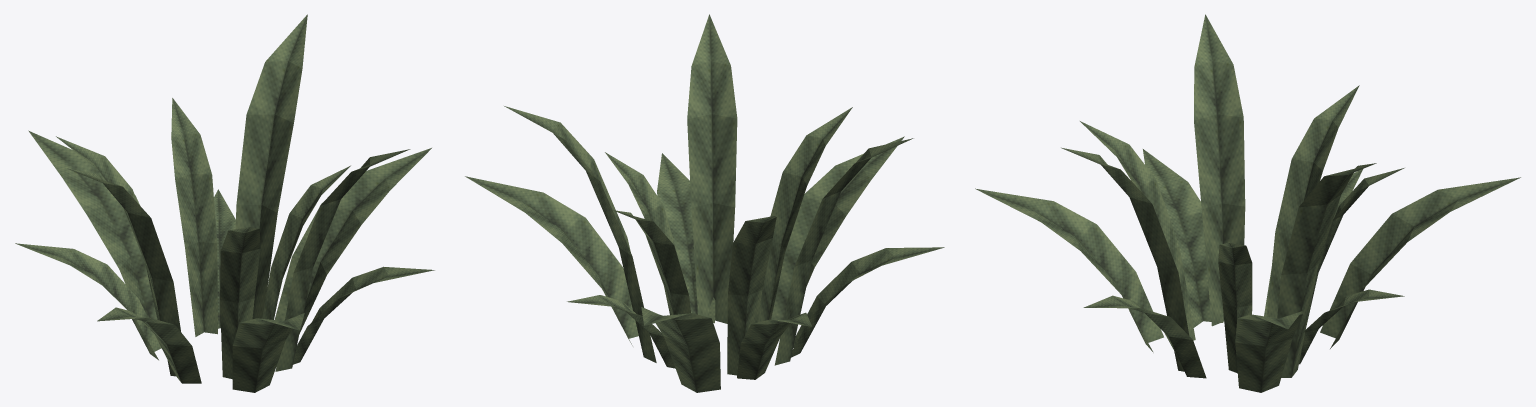
Rendered from Small Grass.fbx.
The picture shows the model from 3 angles, left to right: view 1: azimuth 30°, elevation 25°; view 2: azimuth 150°, elevation 25°; view 3: azimuth 270°, elevation 25°; orthographic projection. The views are drawn at different scales.
Parts seen in each view (by area): view 1: Plane.049, Plane.010, Plane.002, Plane.004, Plane.046, Plane.006, Plane.047, Plane.011, Plane.007, Plane.048, Plane.008, Plane.005 (+2 smaller); view 2: Plane.047, Plane.004, Plane.006, Plane.009, Plane.046, Plane.002, Plane.049, Plane.011, Plane.005, Plane.008, Plane.010, Plane.007 (+2 smaller); view 3: Plane.011, Plane.049, Plane.002, Plane.006, Plane.009, Plane.008, Plane.004, Plane.047, Plane.048, Plane.046, Plane.005, Plane.003 (+1 smaller).
Part boxes in pixels (x1,y1,x2,y2): Plane.049: (235, 14, 307, 318); Plane.010: (171, 98, 217, 336); Plane.002: (28, 130, 157, 319); Plane.004: (274, 148, 431, 333); Plane.046: (220, 227, 260, 379); Plane.006: (232, 313, 304, 392); Plane.047: (275, 149, 410, 371); Plane.011: (67, 168, 180, 376); Plane.007: (15, 243, 161, 360); Plane.048: (262, 165, 350, 319); Plane.008: (97, 307, 201, 383); Plane.005: (293, 266, 434, 364); Plane.047: (687, 14, 737, 323); Plane.004: (465, 176, 638, 345); Plane.006: (771, 136, 904, 319); Plane.009: (727, 216, 776, 375); Plane.046: (758, 107, 852, 322); Plane.002: (641, 307, 720, 392); Plane.049: (504, 106, 656, 362); Plane.011: (774, 138, 913, 365); Plane.005: (657, 153, 715, 323); Plane.008: (791, 247, 944, 357); Plane.010: (612, 210, 690, 315); Plane.007: (737, 312, 811, 379); Plane.011: (1194, 14, 1245, 326); Plane.049: (1277, 163, 1376, 377); Plane.002: (1320, 177, 1520, 348); Plane.006: (975, 188, 1163, 352); Plane.009: (1267, 85, 1359, 318); Plane.008: (1143, 149, 1223, 327); Plane.004: (1235, 311, 1302, 392); Plane.047: (1061, 147, 1189, 371); Plane.048: (1218, 243, 1252, 373); Plane.046: (1080, 121, 1195, 340); Plane.005: (1083, 295, 1206, 378); Plane.003: (1299, 289, 1404, 364).
Size of the model in its own units: 368 by 222 by 416.
